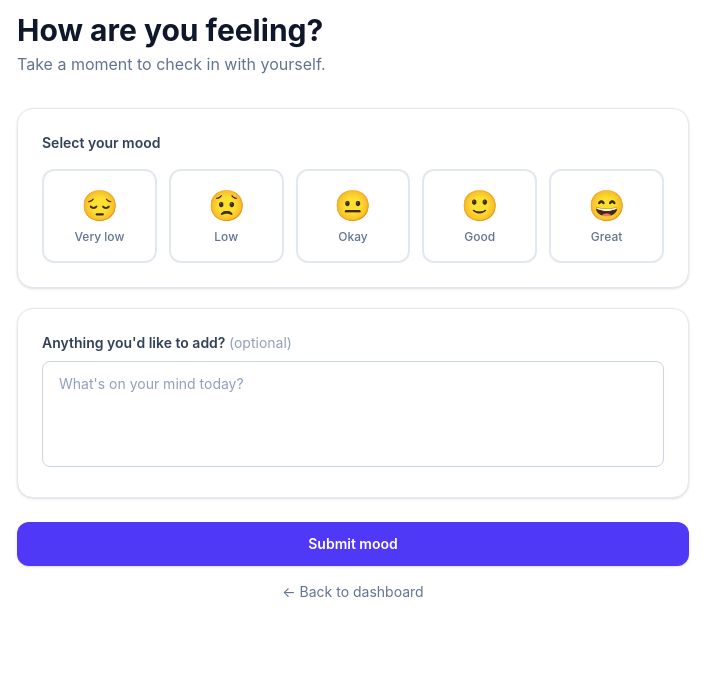
it: MoodPage › shows error when submitted without selecting a mood
The image size is (707, 680).
What coordinates should you click on to do the following:
click the button "Submit mood"
I would click on:
 (353, 544)
Its box is [17, 522, 689, 566].
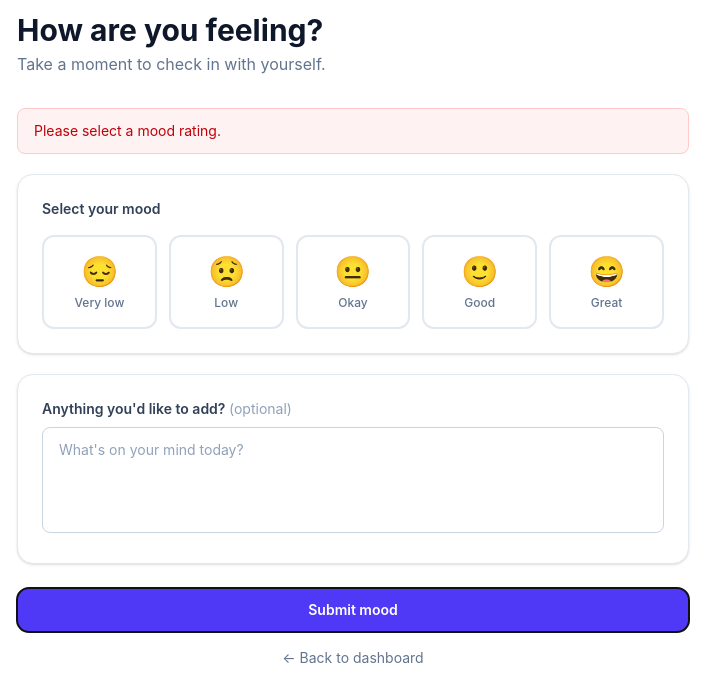
Expected: the message shows "Please select a mood", [34, 122, 221, 139]
